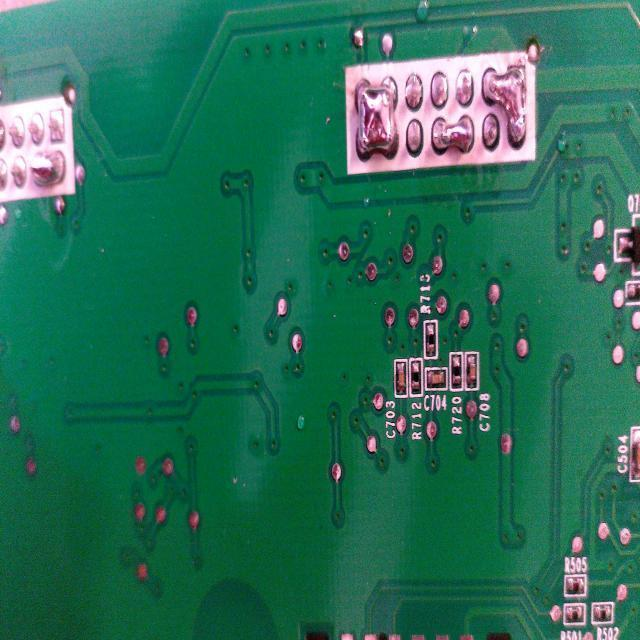Soldering shorted: (348, 75, 401, 168), (479, 63, 528, 153), (431, 114, 476, 160), (28, 145, 66, 198)
